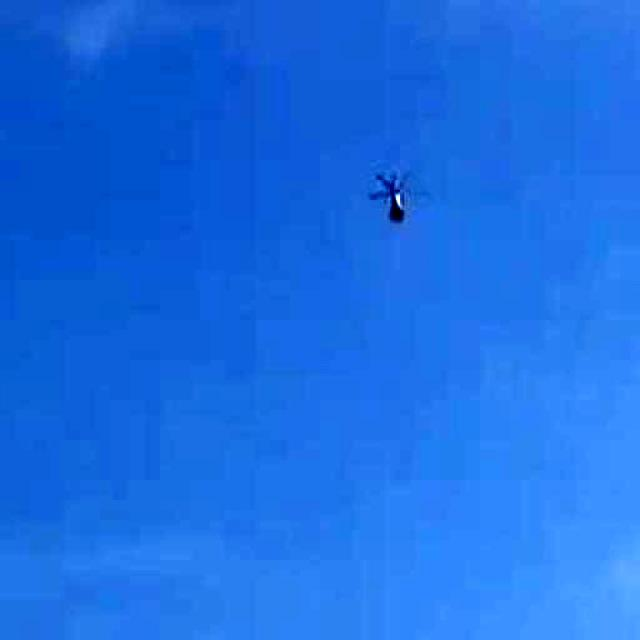drone: (355, 155, 439, 241)
